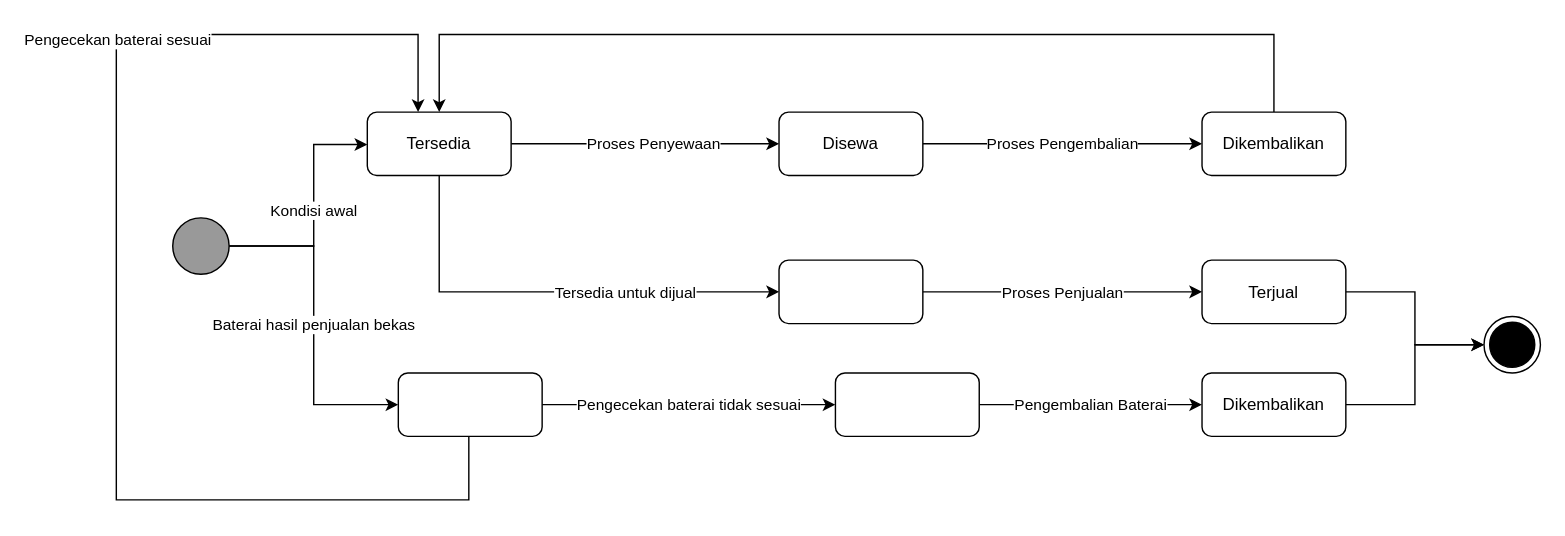
Some shapes in this 1565 by 536 pixel diagram are drawn without their labels. The shapes that lost their labels are listed below. From the top down, each one's box as (x1, y1, x2, y2) in pixels, then its label:
(778, 259, 923, 324): Dijual
(397, 372, 542, 436): Belum di cek
(834, 372, 979, 436): Tidak layak
